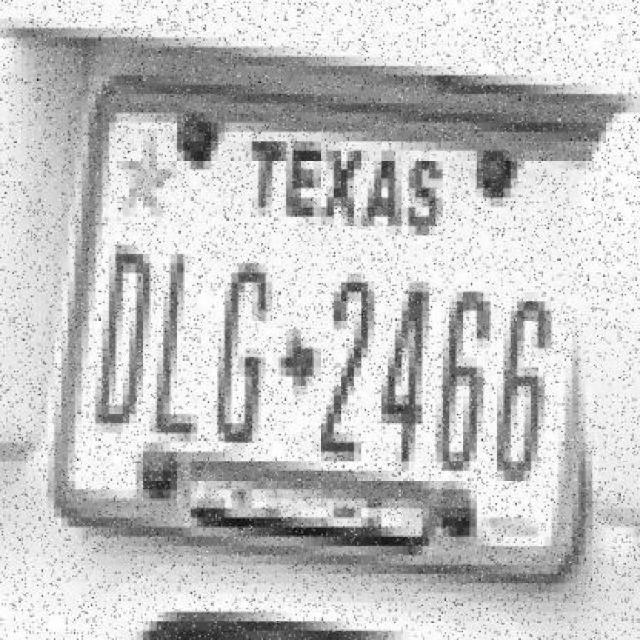licenseplate: (34, 37, 603, 597)
